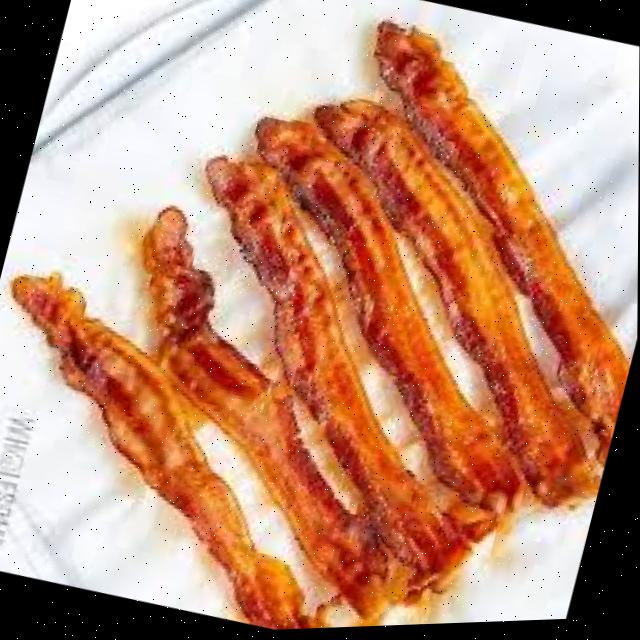Bacon: (315, 103, 598, 511), (377, 24, 630, 464), (12, 276, 324, 632), (206, 159, 464, 580), (256, 120, 529, 514), (143, 213, 395, 619)
